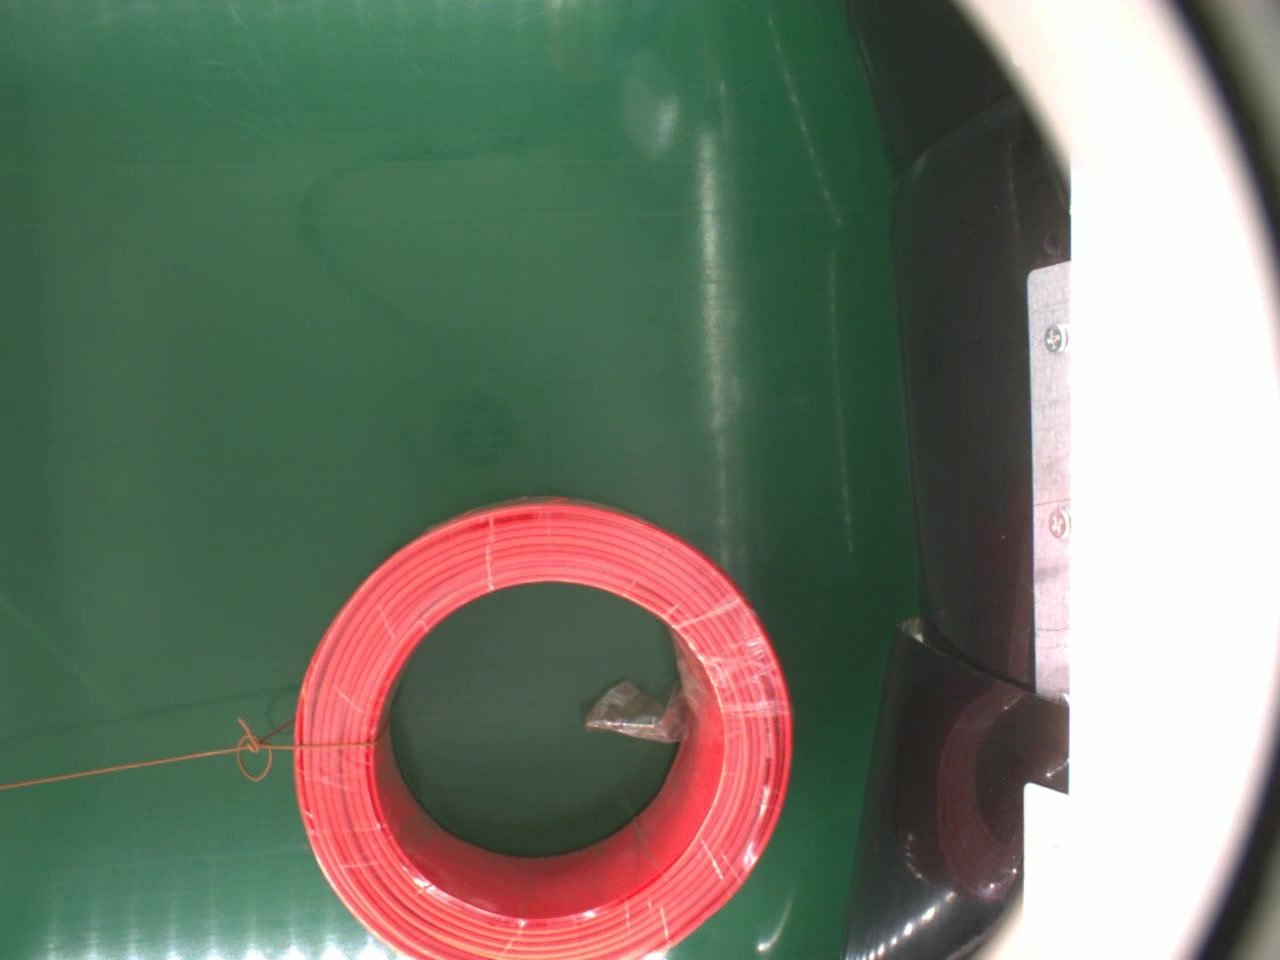red: (285, 497, 809, 960)
